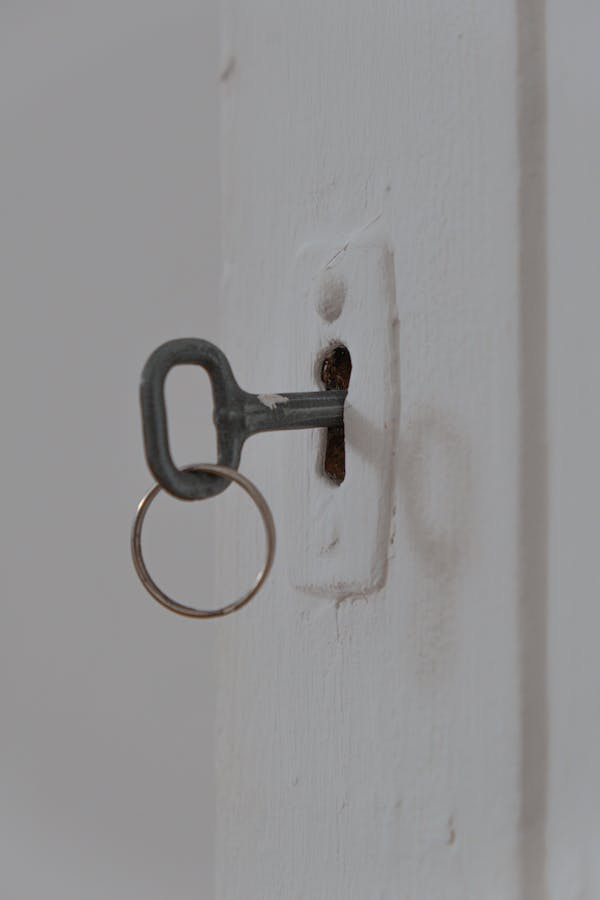key: (138, 339, 352, 503)
